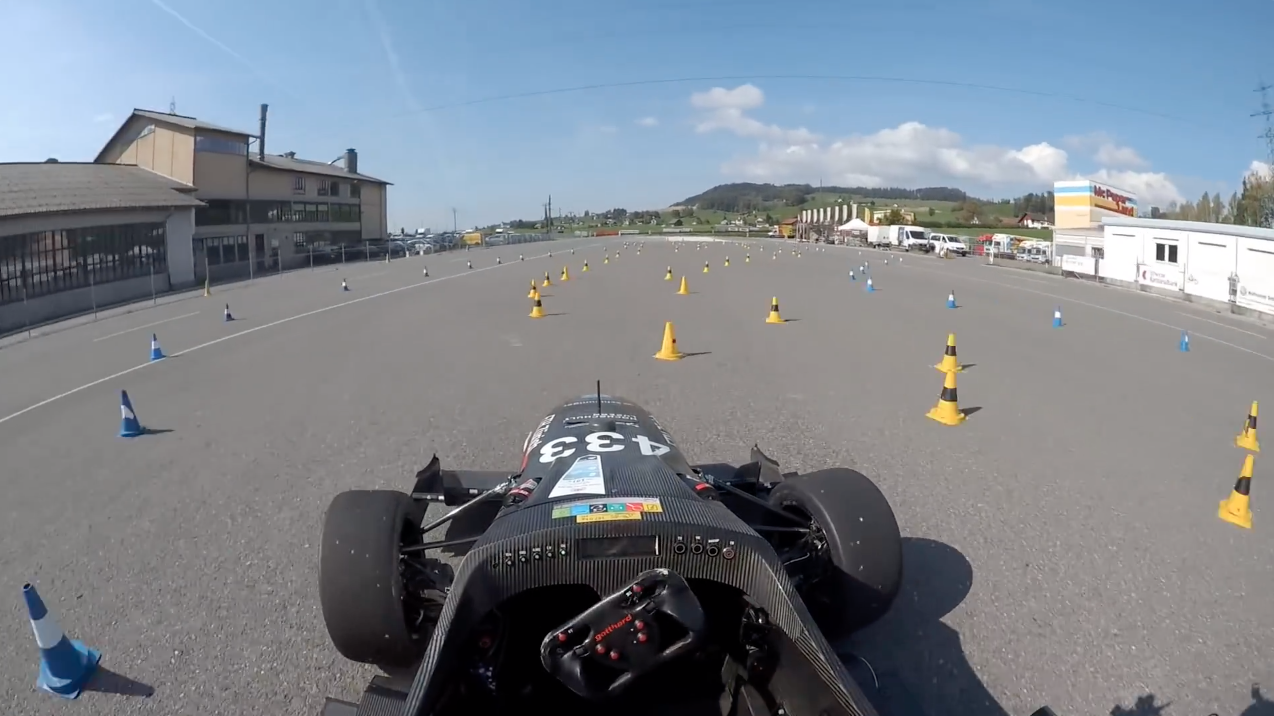lcone: (10, 582, 108, 706), (108, 383, 155, 443), (144, 331, 168, 364)
rcone: (1208, 451, 1264, 533), (922, 365, 973, 431), (1230, 399, 1268, 457), (647, 317, 689, 364), (935, 329, 968, 375), (762, 292, 788, 329), (526, 290, 548, 321)
